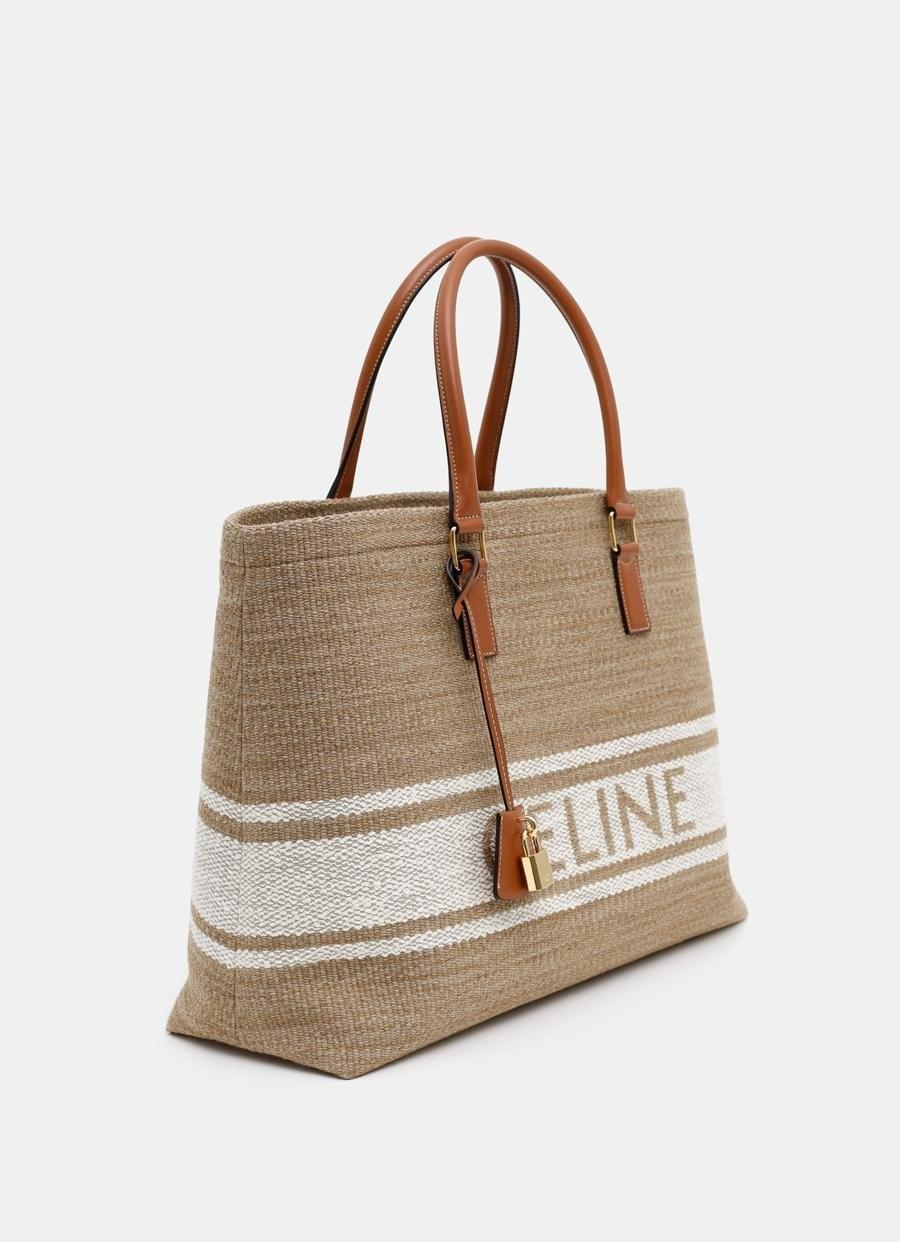CELINE: (483, 760, 695, 879)
